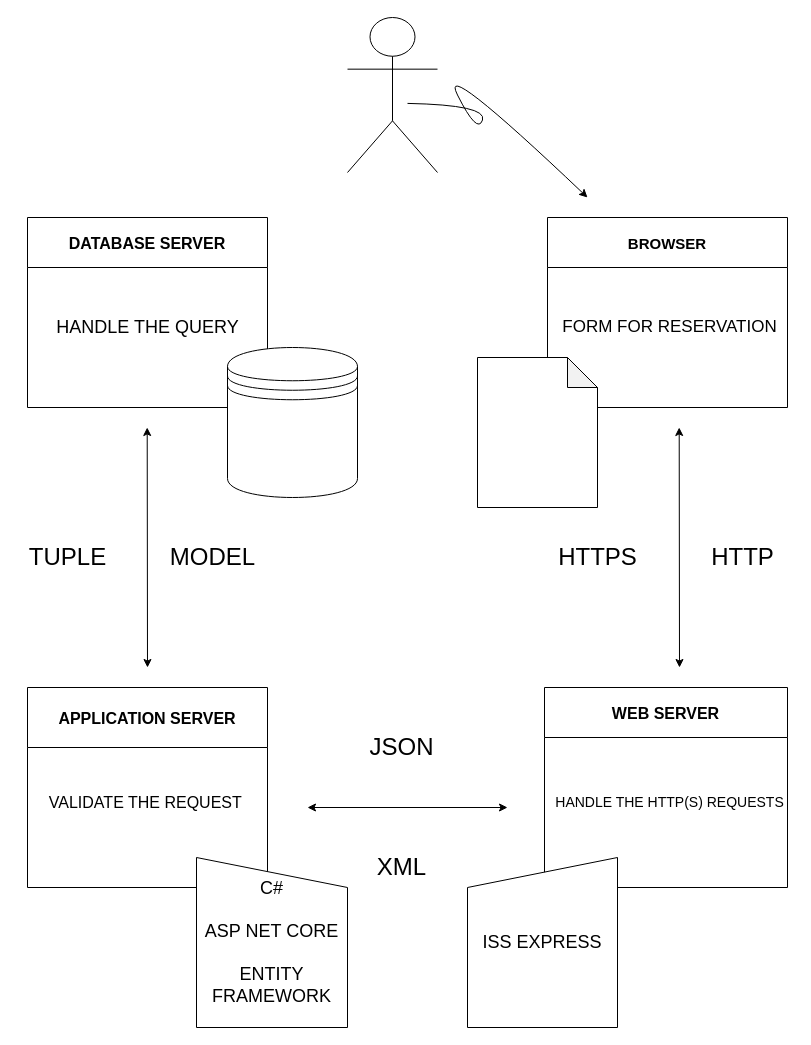
This 811x1045 diagram has some shape labels left out. The centre of each missing label's shape, as x and y in pixels:
"CLIENT" goes at point 392,94.
"HTML CSS BOOTSTRAP" goes at point 537,432.
"SQLITE MSSQL" goes at point 292,422.
